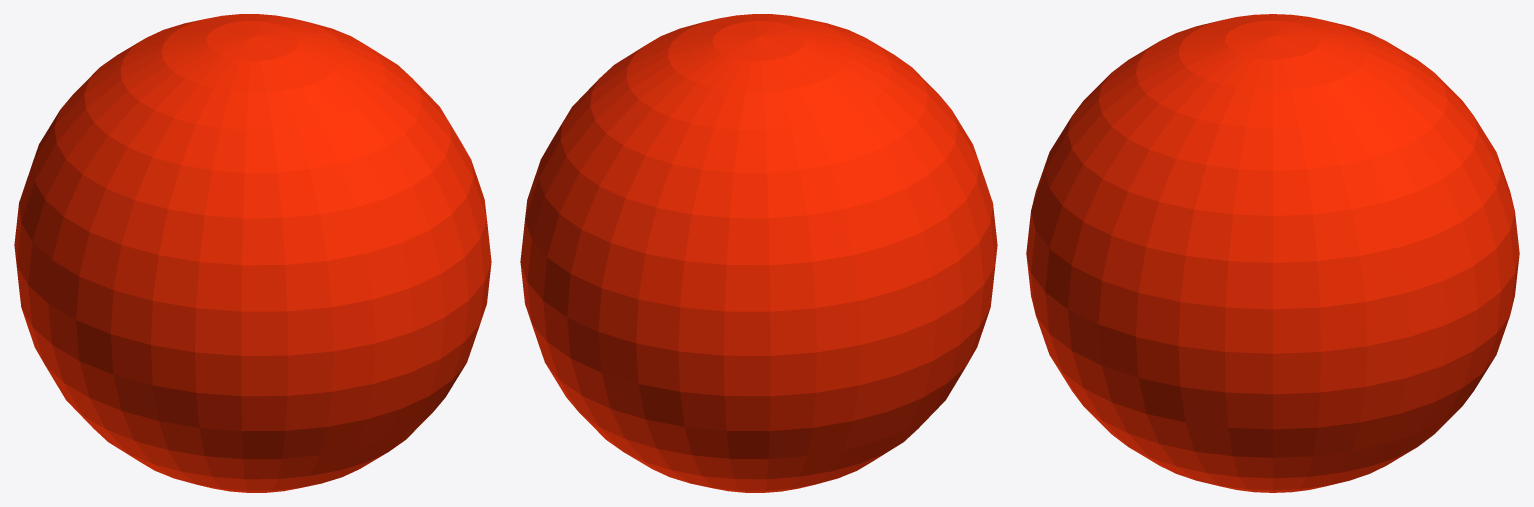
Rendered from tiro.obj.
The picture shows the model from 3 angles, left to right: view 1: azimuth 30°, elevation 25°; view 2: azimuth 150°, elevation 25°; view 3: azimuth 270°, elevation 25°; orthographic projection.
Visible parts, largest first — view 1: Esfera_UV_Esfera_UV.001; view 2: Esfera_UV_Esfera_UV.001; view 3: Esfera_UV_Esfera_UV.001.
Boxes of the visible parts, <box> form: Esfera_UV_Esfera_UV.001: <box>14,14,491,492</box>; Esfera_UV_Esfera_UV.001: <box>520,14,997,492</box>; Esfera_UV_Esfera_UV.001: <box>1026,14,1519,492</box>.
Size of the model in its own units: 0.7415 by 0.7497 by 0.7702.
1 material, 1 textured.
